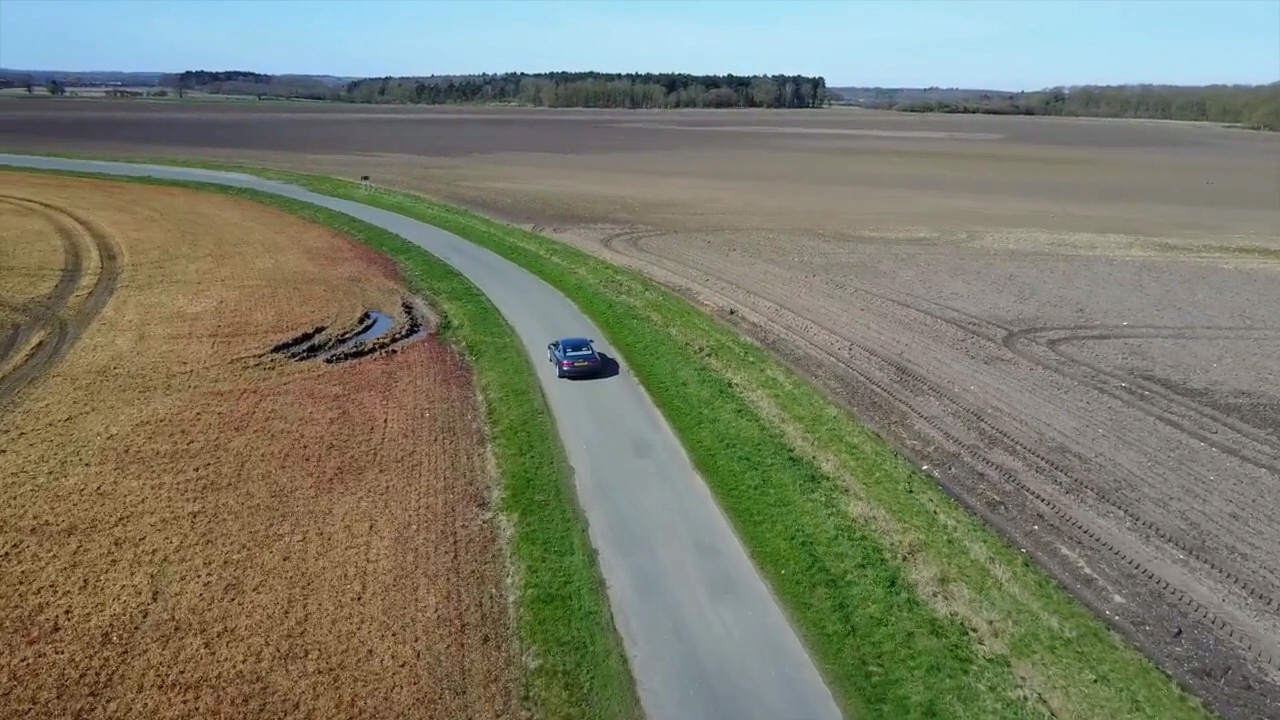araba: (540, 335, 605, 379)
